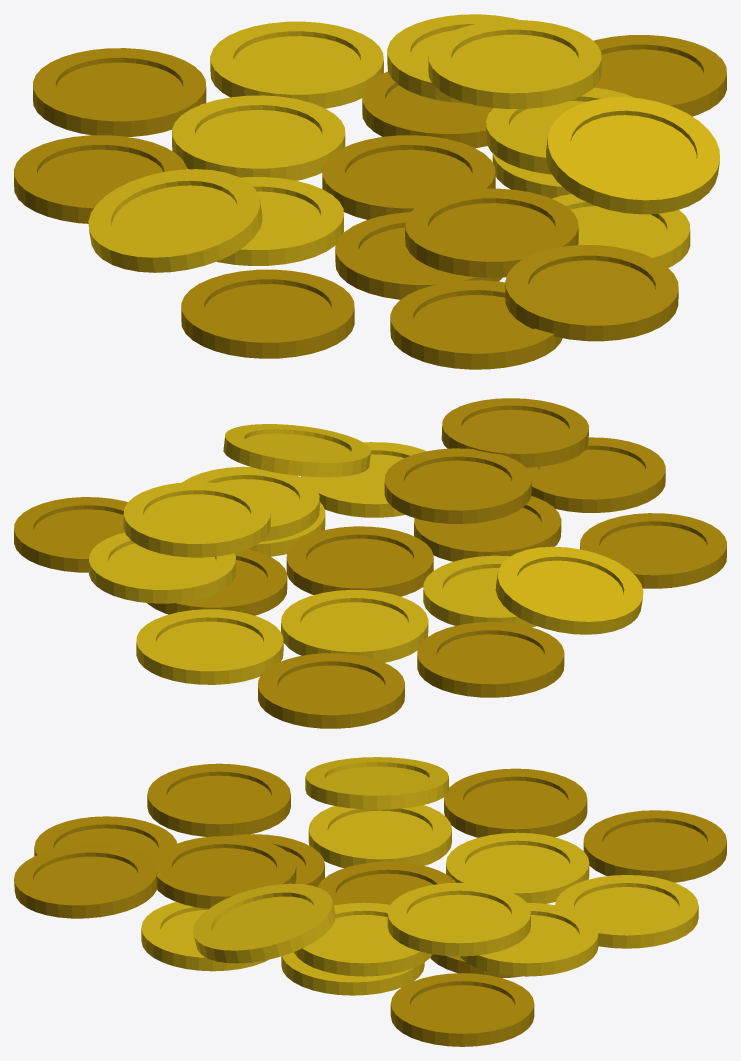
The model's file is grupoMoedas.glb.
The picture shows the model from 3 angles, top to bottom: view 1: azimuth 30°, elevation 25°; view 2: azimuth 150°, elevation 25°; view 3: azimuth 270°, elevation 25°; orthographic projection. The views are drawn at different scales.
Parts seen in each view (by area): view 1: Coin.012; view 2: Coin.012; view 3: Coin.012.
Boxes of the visible parts, <box> form: Coin.012: <box>14,14,726,369</box>; Coin.012: <box>14,398,726,728</box>; Coin.012: <box>14,757,726,1046</box>.
Bounding box in the file's own units: 8.91 × 0.9592 × 9.94.
